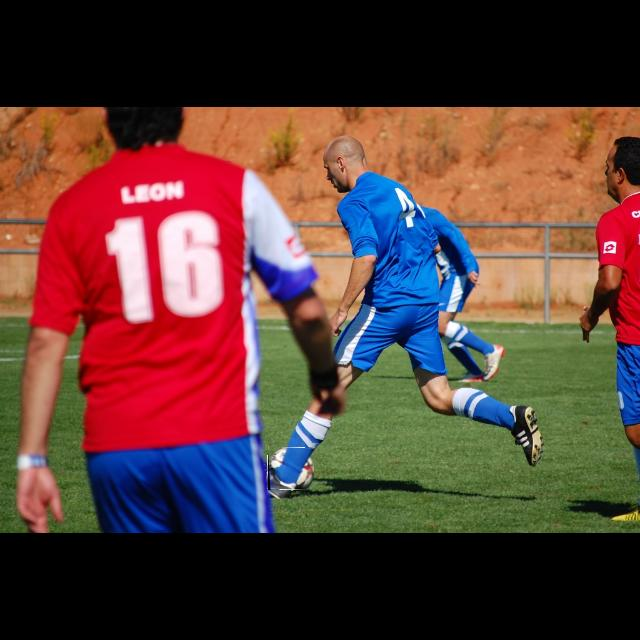Football: (268, 448, 314, 490)
